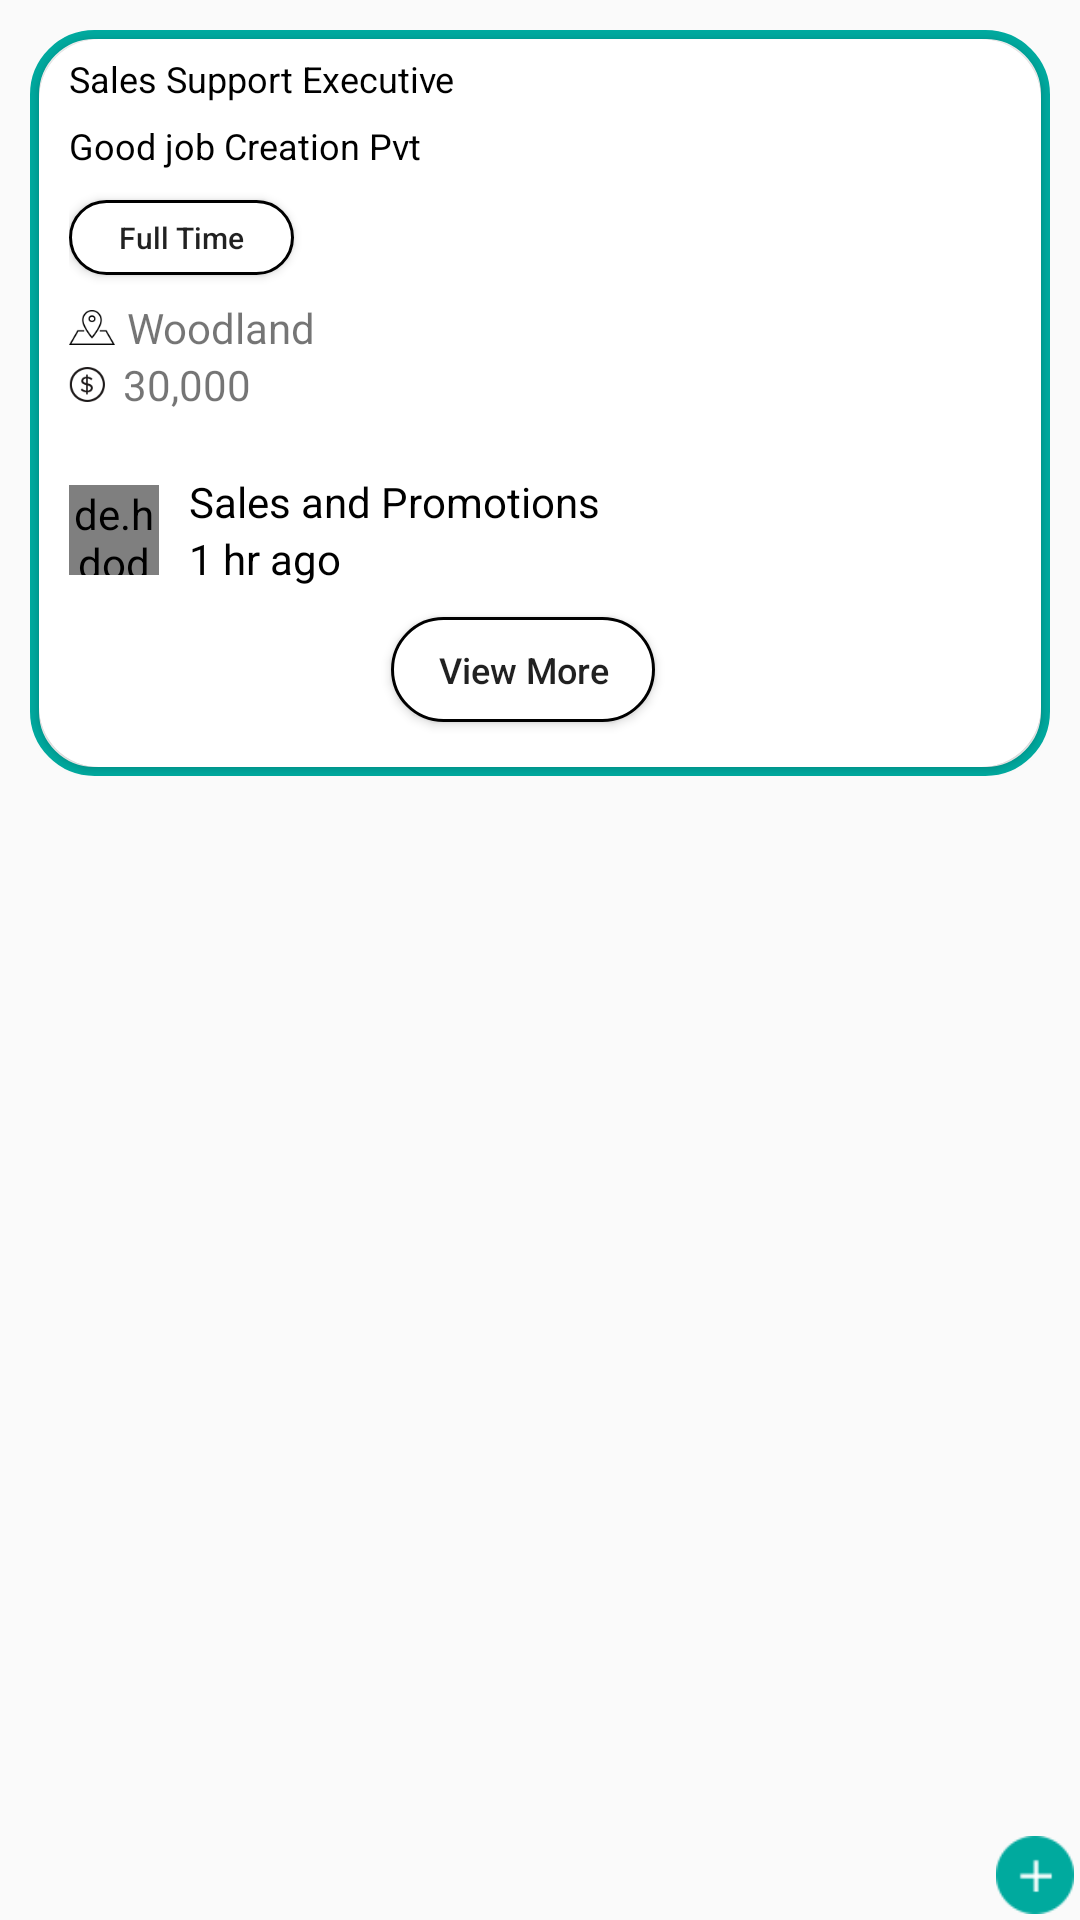

Screen size 1080 × 1920. Icon name, then its box in pixels as (x1, y1, x2, y2):
plus: (996, 1836, 1074, 1914)
